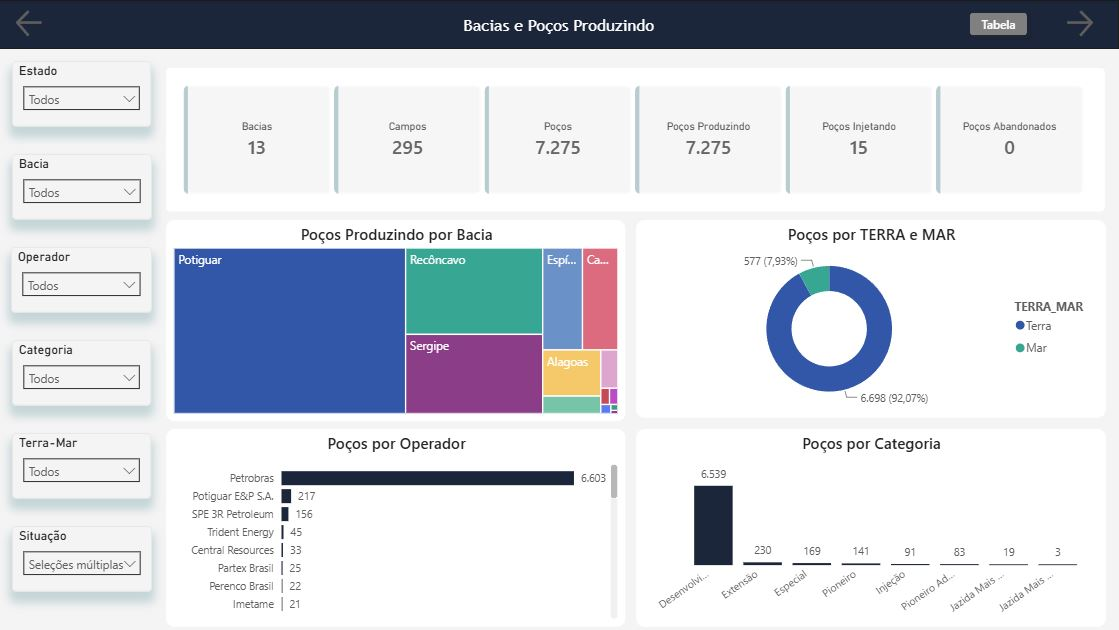

The page's visual inventory and layout, read from the dashboard file:
{"tool":"powerbi","page":{"name":"Poços Produzindo","canvas":[1280,720],"ordinal":2},"visuals":[{"type":"slicer","title":"Categoria","fields":{"Values":["fato_pocos.CATEGORIA"]},"box":[14.6,388.4,159.5,75.2],"z":0},{"type":"slicer","title":"Estado","fields":{"Values":["fato_pocos.ESTADO"]},"box":[14.6,69.5,159.5,75.2],"z":1000},{"type":"slicer","title":"Terra-Mar","fields":{"Values":["fato_pocos.TERRA_MAR"]},"box":[14.6,494.8,159.5,75.2],"z":2000},{"type":"cardVisual","fields":{"Data":["Medidas.Contagem Bacias","Medidas.Total Campos","Medidas.Contagem Pocos","Medidas.Poços Produzindo","Medidas.Poços Injetando","Medidas.Poços Abandonados"]},"box":[191.4,77.5,1073.2,164.1],"z":3000},{"type":"treemap","title":"Poços Produzindo por Bacia","fields":{"Group":["fato_pocos.BACIA"],"Values":["medidas.Total Poços"]},"box":[191.4,251.8,525.2,230.1],"z":4000},{"type":"clusteredBarChart","title":"Poços por Operador","fields":{"Category":["fato_pocos.OPERADOR"],"Y":["Medidas.Total Poços"]},"box":[191.4,489.9,525.2,225.6],"z":5000},{"type":"donutChart","title":"Poços por TERRA e MAR","fields":{"Category":["fato_pocos.TERRA_MAR"],"Y":["Medidas.Total Poços"]},"box":[728,251.8,536.6,225.6],"z":6000},{"type":"clusteredColumnChart","title":"Poços por Categoria","fields":{"Category":["fato_pocos.CATEGORIA"],"Y":["Medidas.Total Poços"]},"box":[728,489.9,536.6,225.6],"z":7000},{"type":"slicer","title":"Operador","fields":{"Values":["fato_pocos.OPERADOR"]},"box":[14,282,160.6,75.2],"z":8000},{"type":"slicer","title":"Situação","fields":{"Values":["fato_pocos.SITUACAO"]},"box":[14.3,601.2,160,75],"z":9000},{"type":"slicer","title":"Bacia","fields":{"Values":["fato_pocos.BACIA"]},"box":[14.3,175.9,160,75],"z":10000},{"type":"shape","box":[0,0,1279.7,56.4],"z":11000},{"type":"actionButton","box":[1100.3,6,83.2,43.4],"z":12000},{"type":"actionButton","box":[14.5,7.2,56.7,39.8],"z":13000},{"type":"actionButton","box":[1214.9,7.2,49.5,39.8],"z":14000}]}

Visuals, with their boxes in screenshot pixels (x1, y1, x2, y2), scaled from the page's 1280x720 canvas onto the 1119x630 screenshot:
"Categoria" slicer: left=13, top=340, right=152, bottom=406
"Estado" slicer: left=13, top=61, right=152, bottom=127
"Terra-Mar" slicer: left=13, top=433, right=152, bottom=499
cardVisual - Medidas.Contagem Bacias x Medidas.Total Campos: left=167, top=68, right=1106, bottom=211
"Poços Produzindo por Bacia" treemap: left=167, top=220, right=626, bottom=422
"Poços por Operador" clusteredBarChart: left=167, top=429, right=626, bottom=626
"Poços por TERRA e MAR" donutChart: left=636, top=220, right=1106, bottom=418
"Poços por Categoria" clusteredColumnChart: left=636, top=429, right=1106, bottom=626
"Operador" slicer: left=12, top=247, right=153, bottom=313
"Situação" slicer: left=13, top=526, right=152, bottom=592
"Bacia" slicer: left=13, top=154, right=152, bottom=220
shape: left=0, top=0, right=1118, bottom=49
actionButton: left=962, top=5, right=1035, bottom=43
actionButton: left=13, top=6, right=62, bottom=41
actionButton: left=1062, top=6, right=1105, bottom=41
